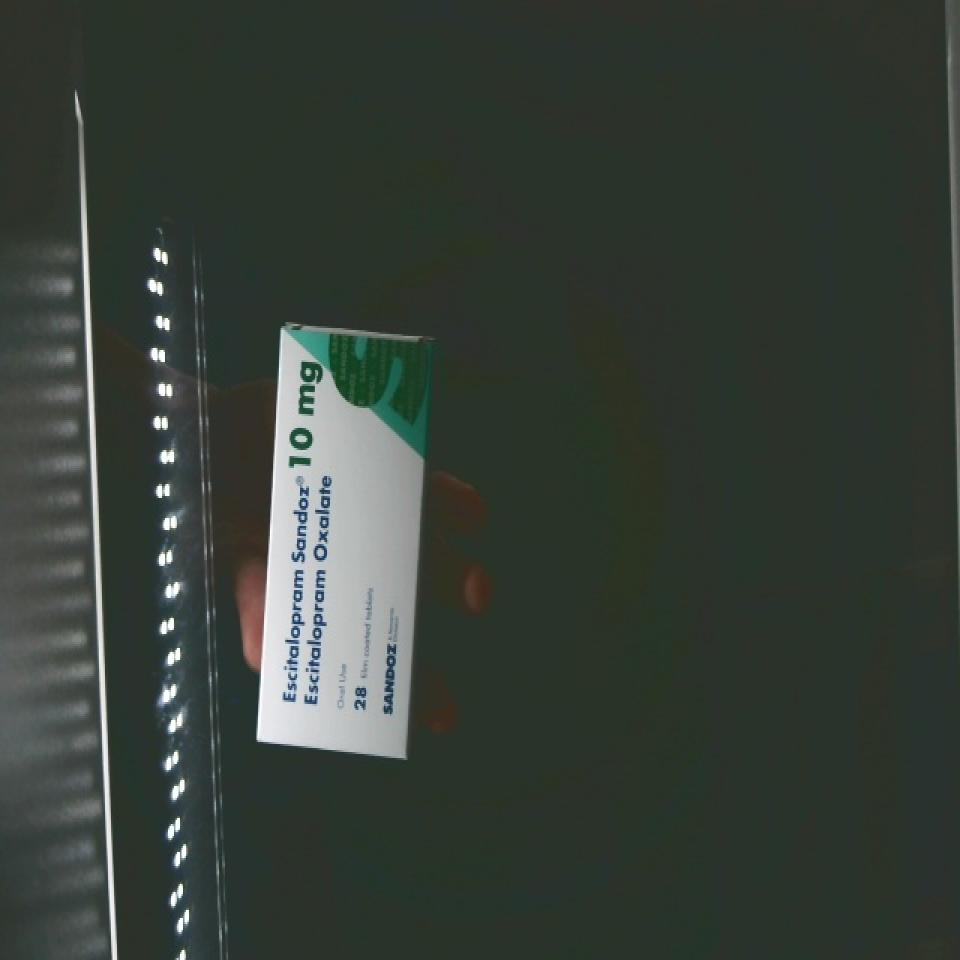medicine_box: (254, 327, 431, 751)
medicine_label_obb: (265, 461, 344, 728)
